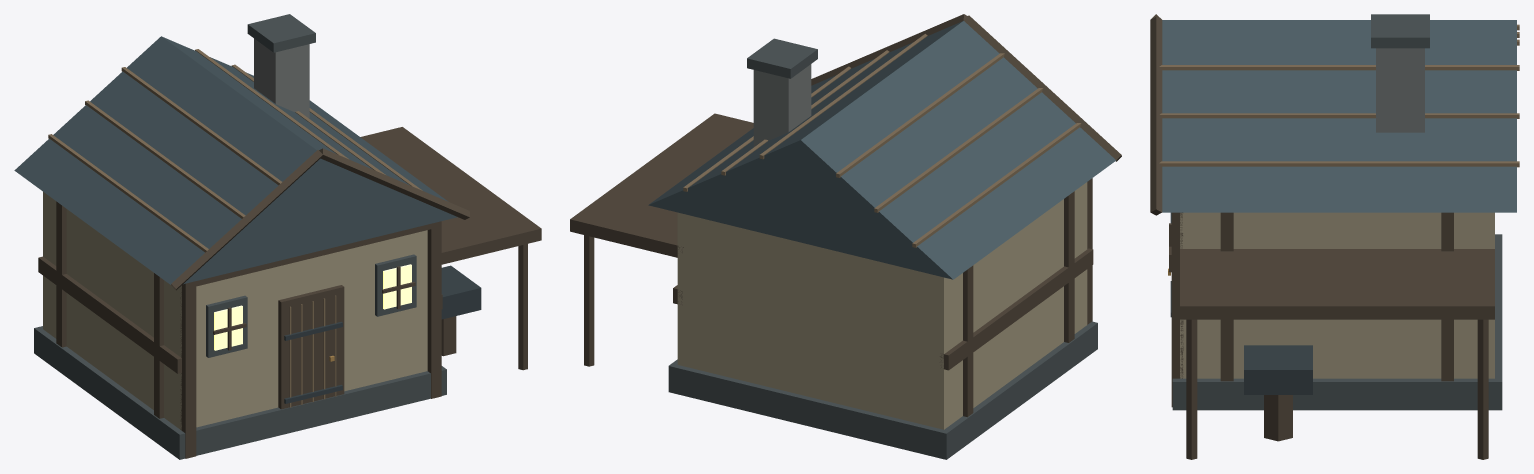
Rendered from BLD_Workshop_00_Smith.glb.
3 views of the same model, side by side, from view 1: azimuth 30°, elevation 25°; view 2: azimuth 150°, elevation 25°; view 3: azimuth 270°, elevation 25° (orthographic). The views are drawn at different scales.
Visible parts, largest first — view 1: BLD_Workshop_00_Smith; view 2: BLD_Workshop_00_Smith; view 3: BLD_Workshop_00_Smith.
Part boxes in pixels (<box>): BLD_Workshop_00_Smith: <box>14,14,541,459</box>; BLD_Workshop_00_Smith: <box>570,14,1121,459</box>; BLD_Workshop_00_Smith: <box>1150,14,1519,459</box>.
Bounding box in the file's own units: 5.06 × 3.91 × 3.75.
